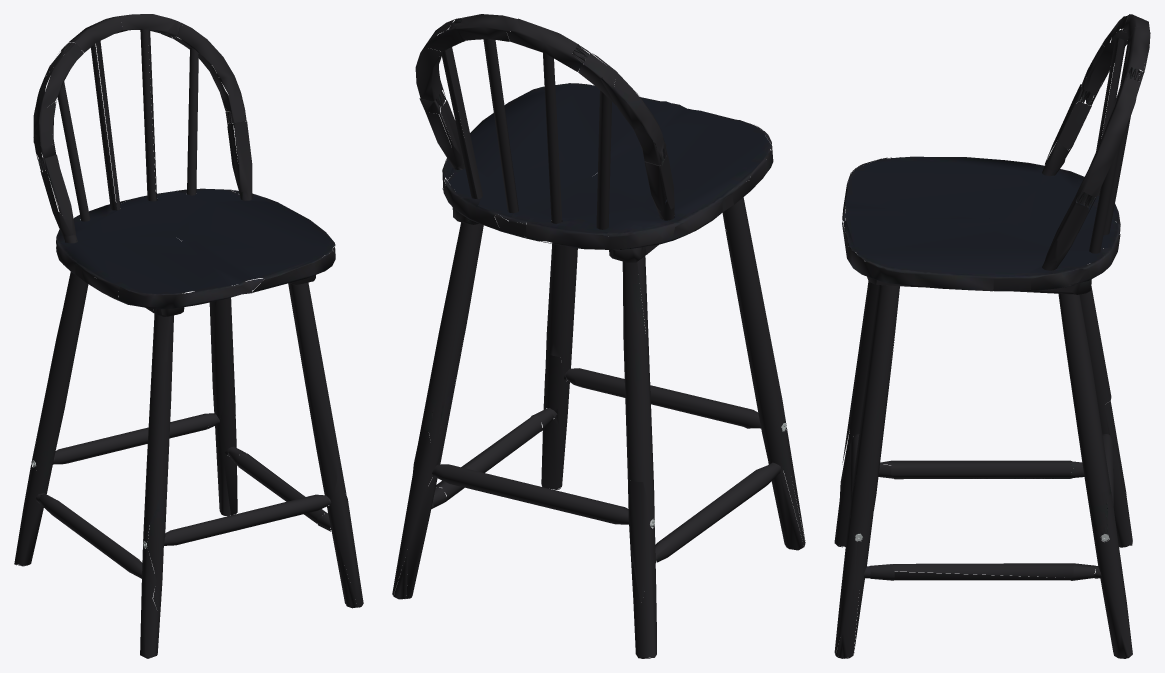
3 renders of one model, left to right at view 1: azimuth 30°, elevation 25°; view 2: azimuth 150°, elevation 25°; view 3: azimuth 270°, elevation 25°, orthographic. The views are drawn at different scales.
Visible parts, largest first — view 1: skogsta-stool.001; view 2: skogsta-stool.001; view 3: skogsta-stool.001.
Boxes of the visible parts, box(x1,y1,x2,y2) form: skogsta-stool.001: box(14, 14, 363, 658); skogsta-stool.001: box(392, 14, 805, 658); skogsta-stool.001: box(834, 14, 1150, 658).
Bounding box in the file's own units: 0.4099 × 0.9151 × 0.4576.
1 material, 1 textured.
